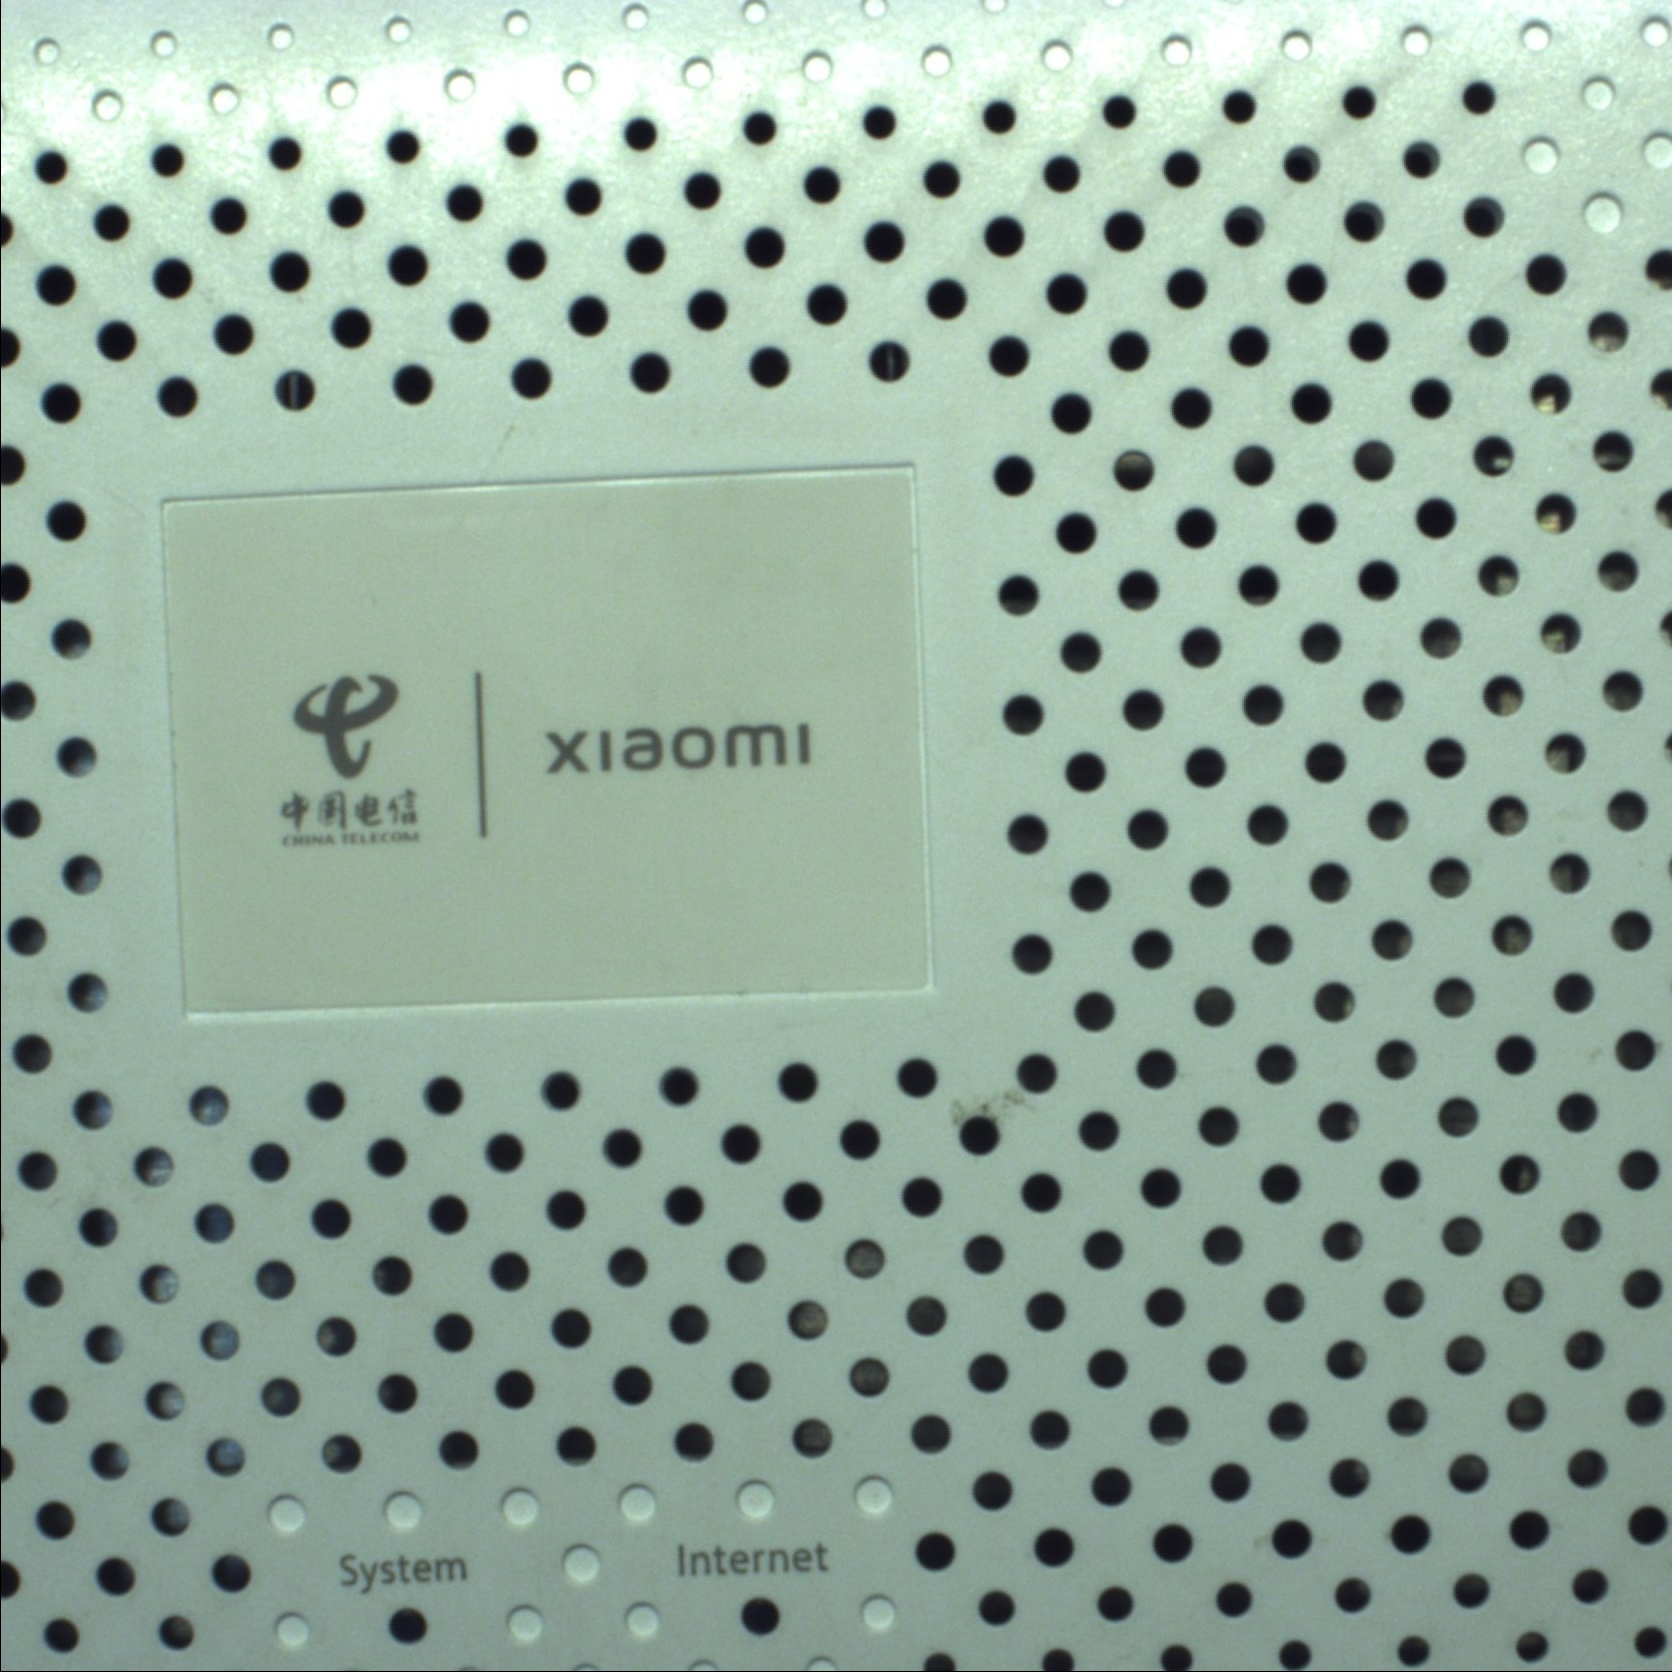MAA_Telecom: (254, 657, 828, 864)
